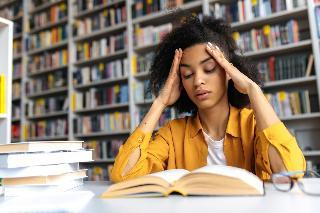person - v3 P: (112, 10, 305, 182)
